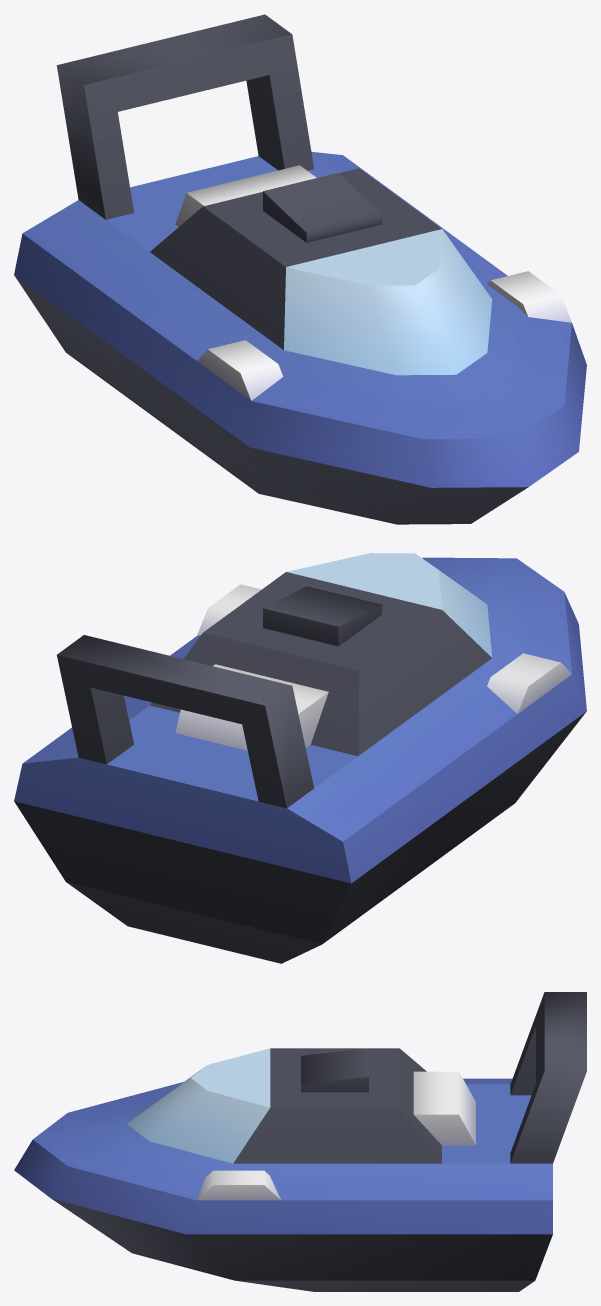
Rendered from boat-speed-a.glb.
3 views of the same model, one above another, from view 1: azimuth 30°, elevation 25°; view 2: azimuth 150°, elevation 25°; view 3: azimuth 270°, elevation 25° (orthographic). The views are drawn at different scales.
Parts seen in each view (by area): view 1: boat-speed-a; view 2: boat-speed-a; view 3: boat-speed-a.
Boxes of the visible parts, x1,y1,x2,y2 form: boat-speed-a: (14,14,586,524); boat-speed-a: (14,553,586,963); boat-speed-a: (14,992,586,1291).
Bounding box in the file's own units: 1.79 × 1.5 × 3.37.
1 material, 1 textured.
